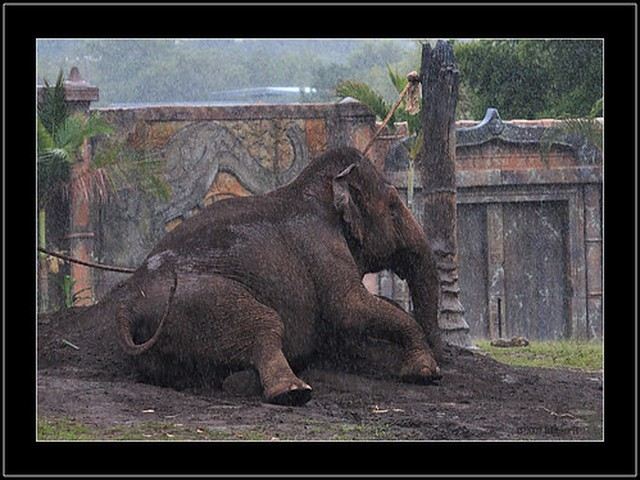Elephant: (109, 143, 445, 402)
